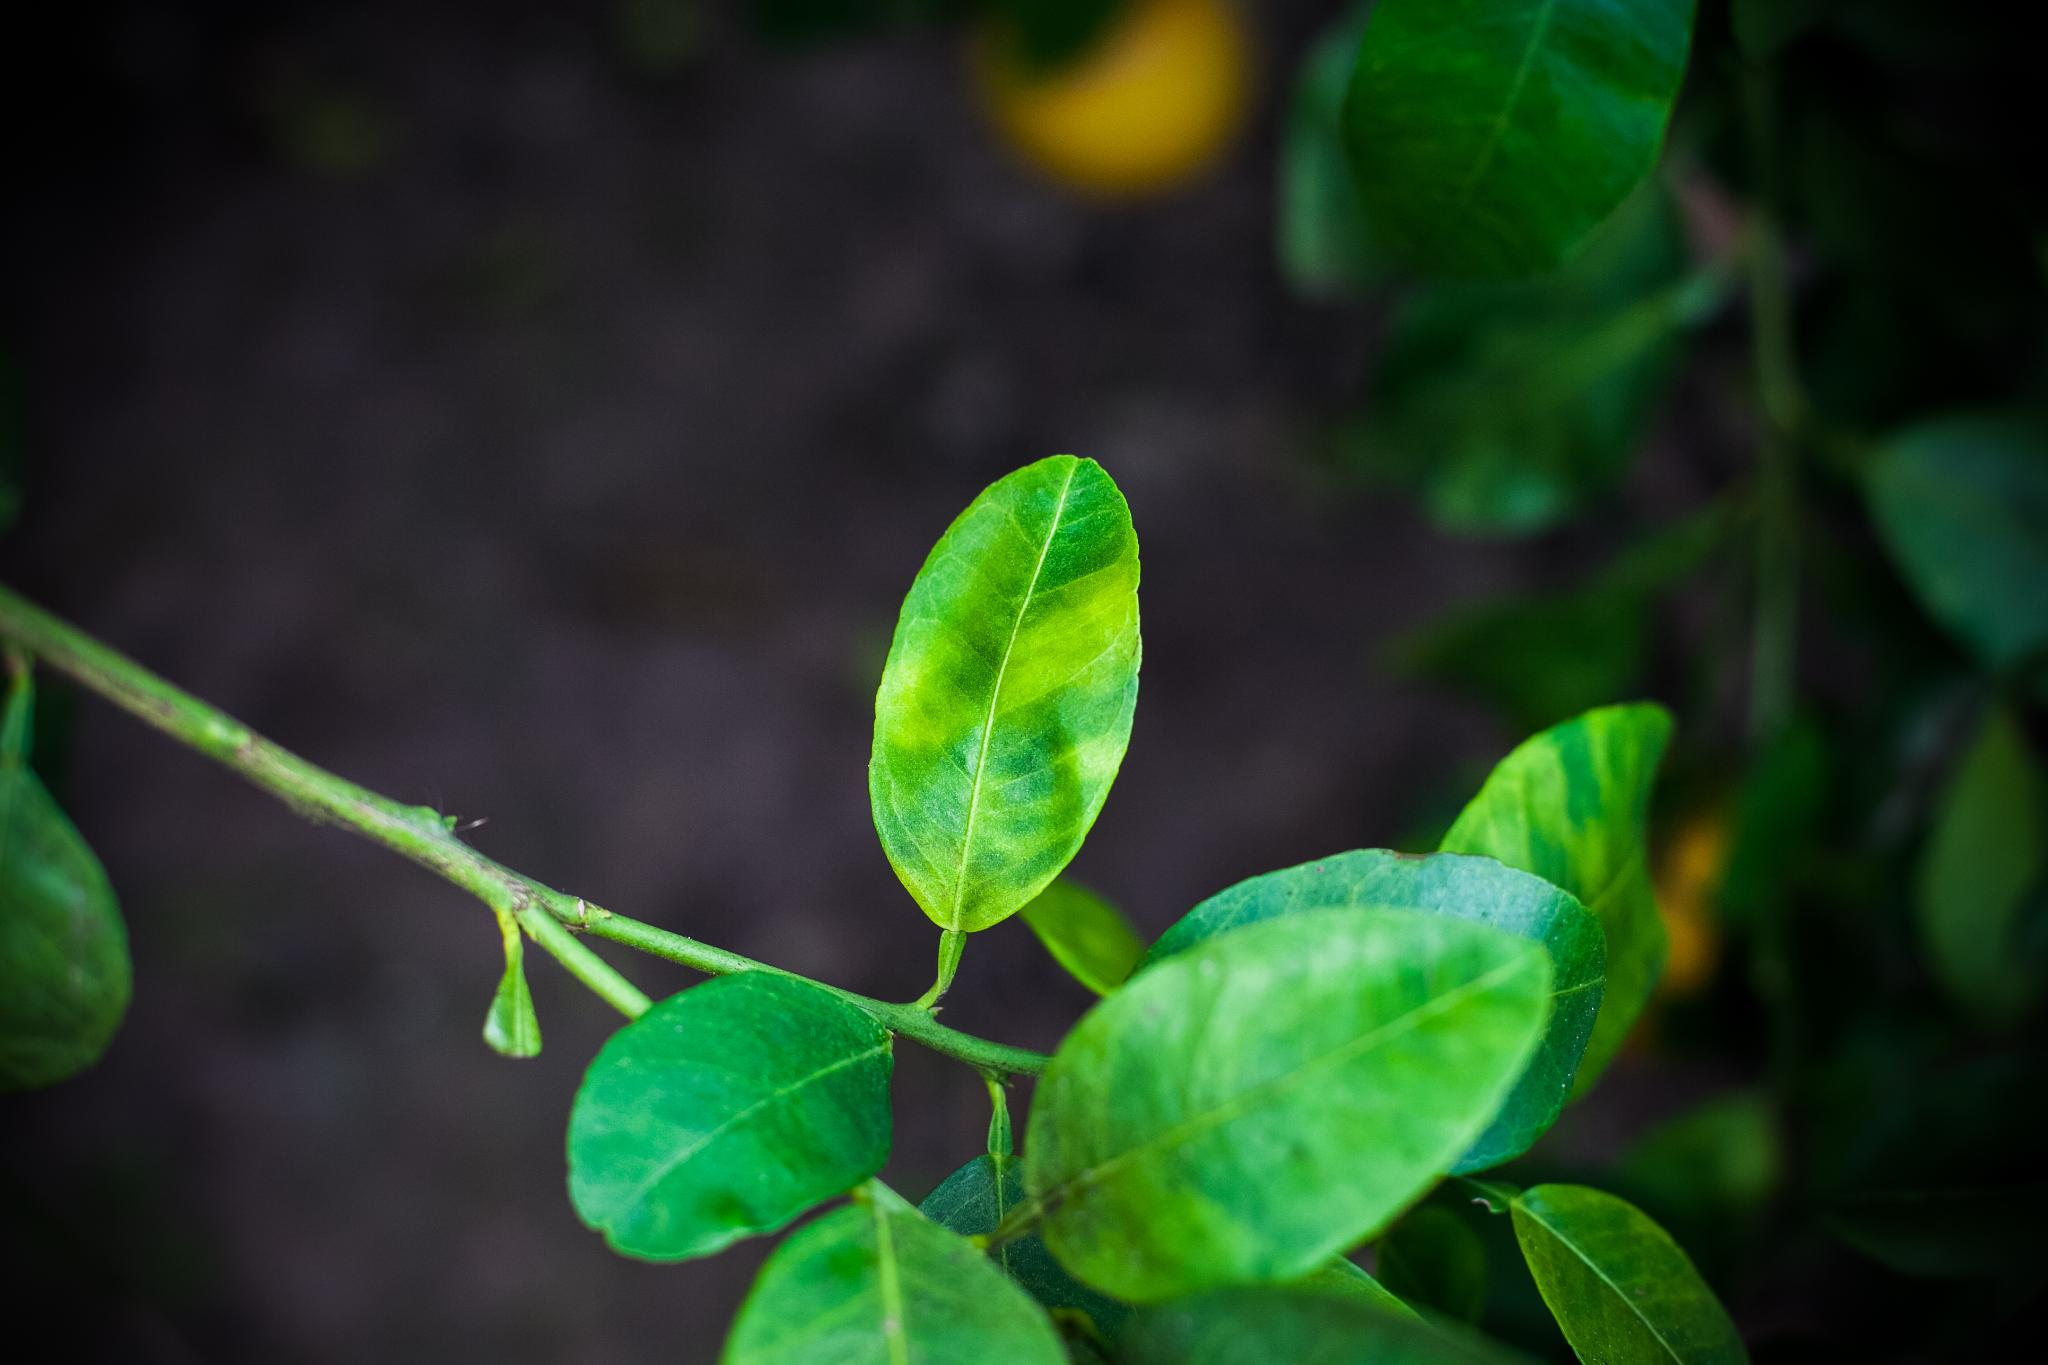Citrus Greening: (862, 449, 1151, 935)
